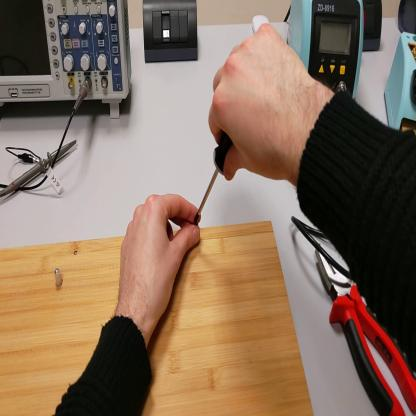hand: (209, 25, 312, 188), (117, 193, 202, 329)
oscilloscope: (1, 1, 133, 123)
oscilloscope probe tip: (2, 140, 76, 199)
pliers: (317, 246, 416, 416)
screwdriver-: (194, 132, 235, 223)
socket: (363, 2, 383, 54), (399, 2, 416, 35)
welder base: (385, 34, 416, 141)
welder station: (287, 1, 365, 106)
working area: (2, 225, 314, 415)
